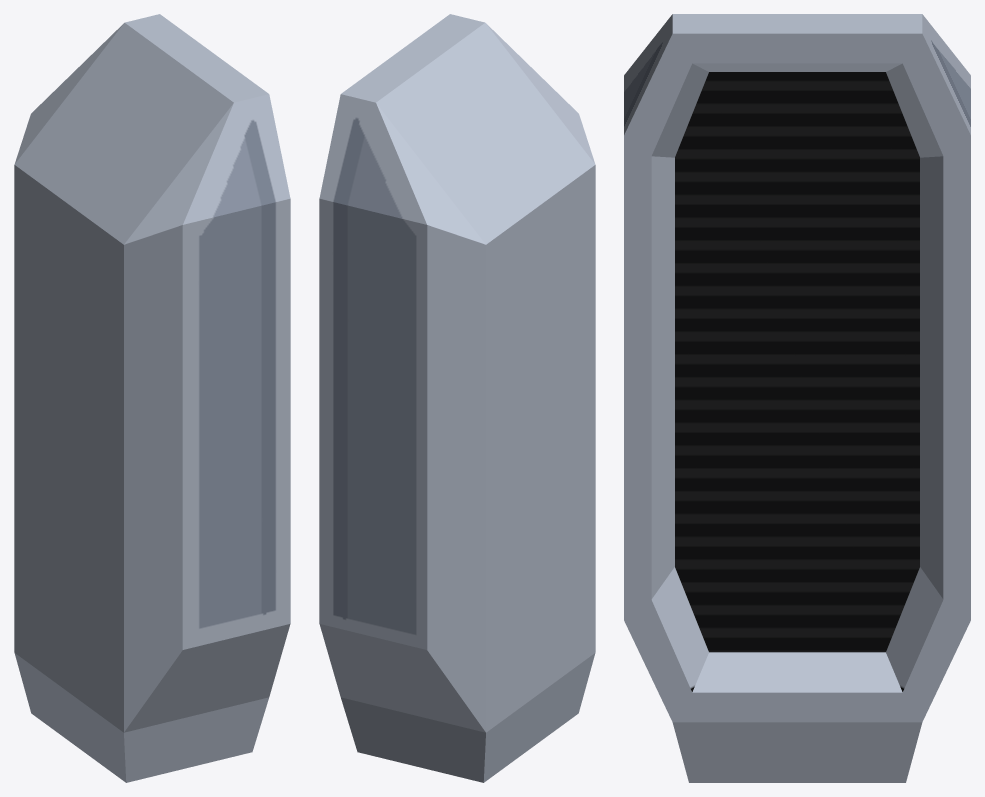
File: standingVent_clean.obj
3 renders of one model, left to right at view 1: azimuth 30°, elevation 25°; view 2: azimuth 150°, elevation 25°; view 3: azimuth 270°, elevation 25°, orthographic. The views are drawn at different scales.
Parts seen in each view (by area): view 1: Cube; view 2: Cube; view 3: Cube.
Part boxes in pixels (<box>): Cube: <box>14,14,290,782</box>; Cube: <box>319,14,595,782</box>; Cube: <box>624,14,970,782</box>.
Size of the model in its own units: 1.53 by 6.67 by 2.78.
Materials: 1 (1 with a texture image).
